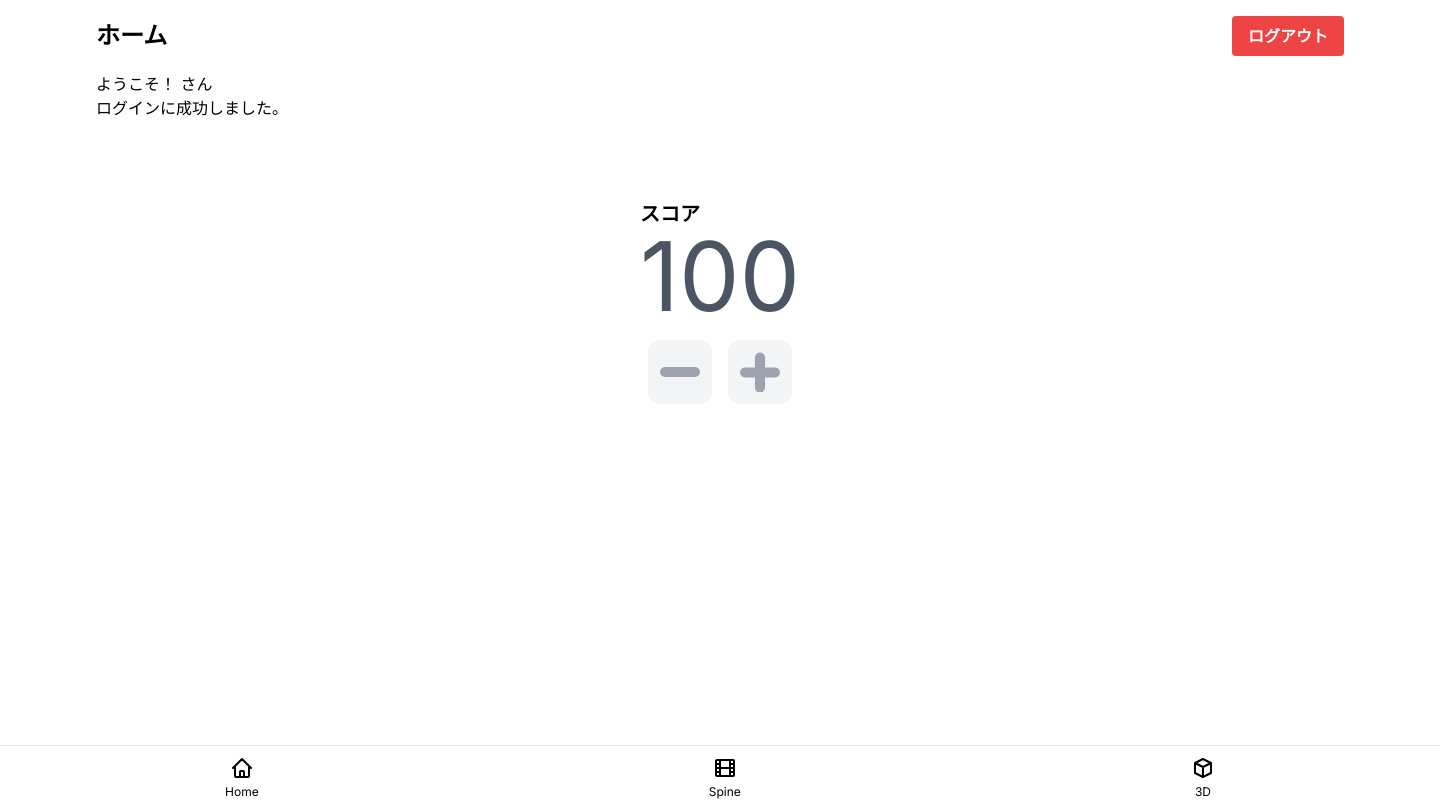
ホーム画面に関するテスト › マイナスボタンを押したら１減るか
Expected: the element with test id "score" shows "100", [640, 218, 800, 334]
Click the button named "マイナス" at coordinates (680, 372), box [648, 340, 712, 404]
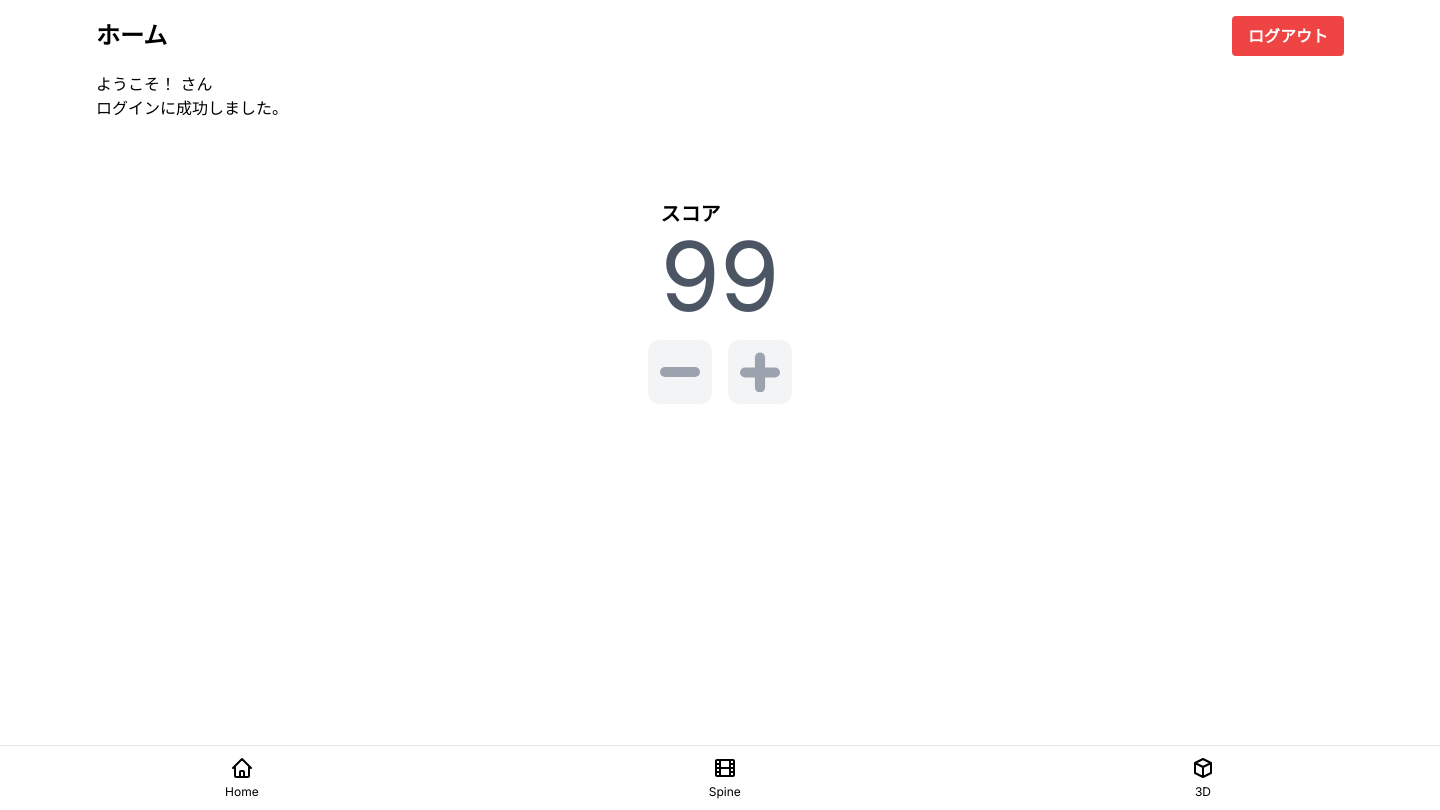
Now the element with test id "score" shows "99", box [660, 218, 780, 334]
